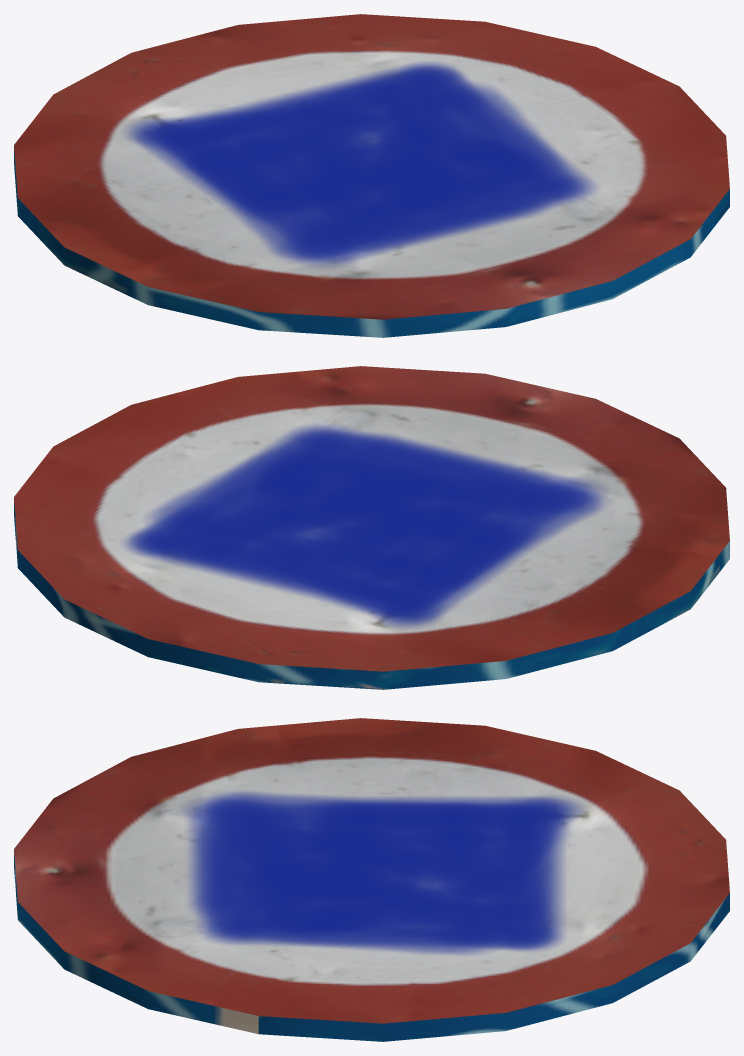
The model's file is Sign_Blue.FBX.
3 views of the same model, one above another, from view 1: azimuth 30°, elevation 25°; view 2: azimuth 150°, elevation 25°; view 3: azimuth 270°, elevation 25° (orthographic).
Parts seen in each view (by area): view 1: Sign_Blue; view 2: Sign_Blue; view 3: Sign_Blue.
Boxes of the visible parts, bbox=[...] form: Sign_Blue: bbox=[14, 14, 729, 337]; Sign_Blue: bbox=[14, 366, 729, 689]; Sign_Blue: bbox=[14, 718, 729, 1041].
Size of the model in its own units: 46.45 by 1.29 by 46.
1 material, 1 textured.
